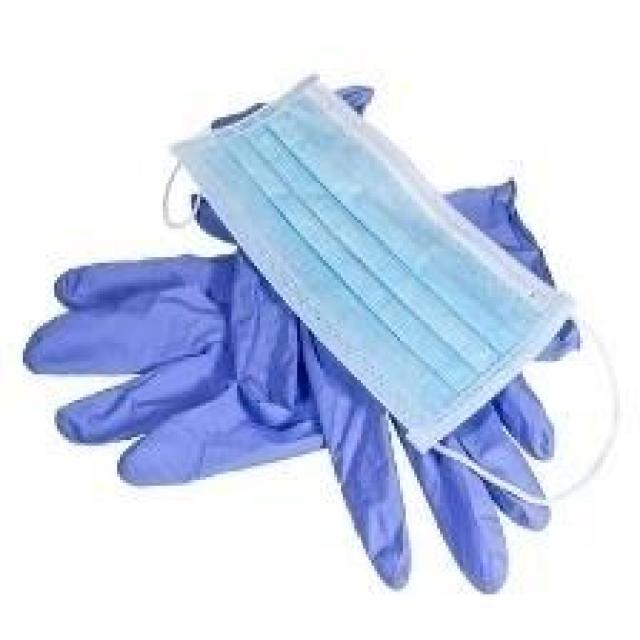Glove: (26, 73, 640, 577)
